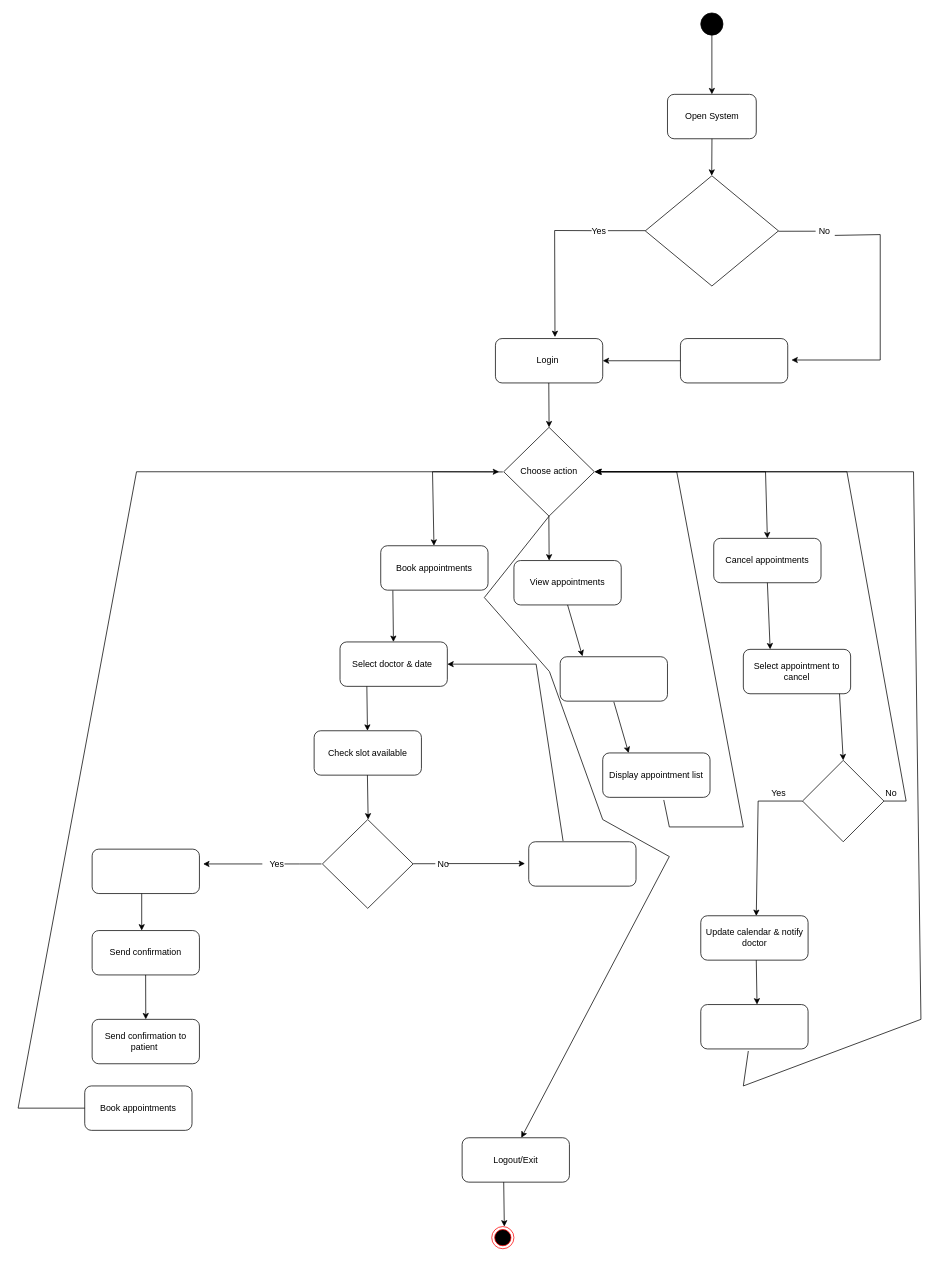
This 940x1262 diagram has some shape labels left out. Here are the shapes that lost their labels. From the top down, the centre of each, then its label:
At (711,230): "Has account?".
At (734,360): "Register".
At (613,678): "Fetch appointments from system".
At (843,801): "Confirm cancellation?".
At (145,871): "Create appointment".
At (367,863): "Slot available?".
At (582,863): "Show alternative slots".
At (754,1026): "Show cancellation success".
